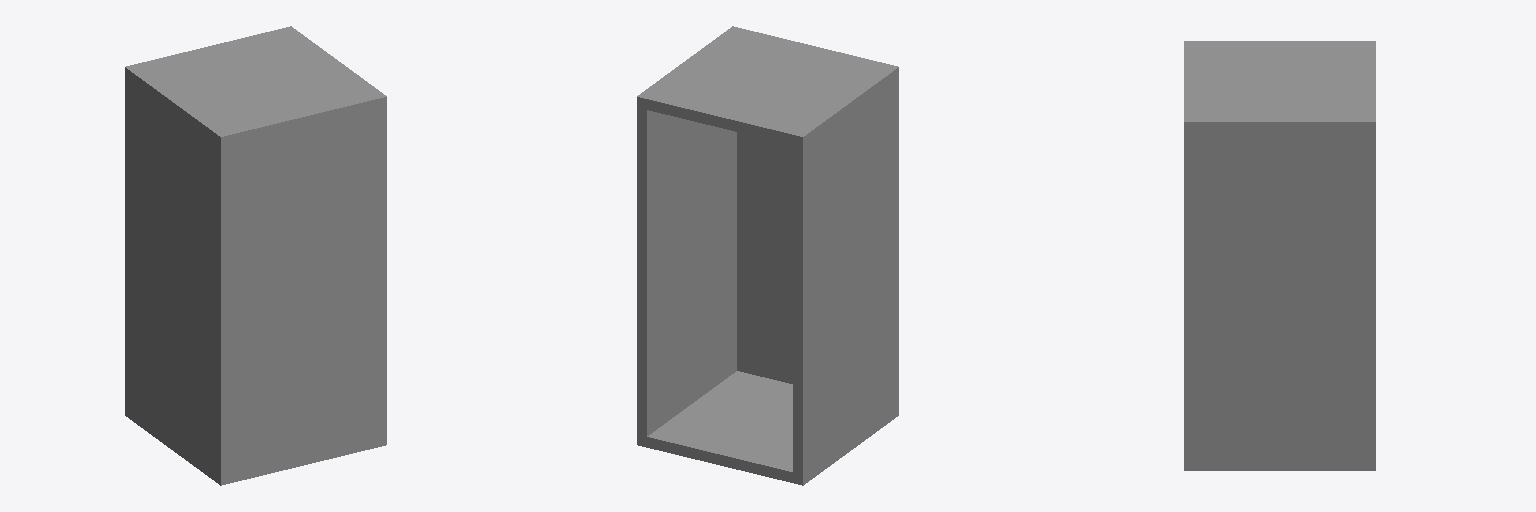
Rendered from locker_large.obj.
3 renders of one model, left to right at view 1: azimuth 30°, elevation 25°; view 2: azimuth 150°, elevation 25°; view 3: azimuth 270°, elevation 25°, orthographic.
Parts seen in each view (by area): view 1: locker_large; view 2: locker_large; view 3: locker_large.
Boxes of the visible parts, <box> form: locker_large: <box>125,26,386,485</box>; locker_large: <box>637,26,898,485</box>; locker_large: <box>1184,41,1375,470</box>.
Bounding box in the file's own units: 1 × 2 × 1.